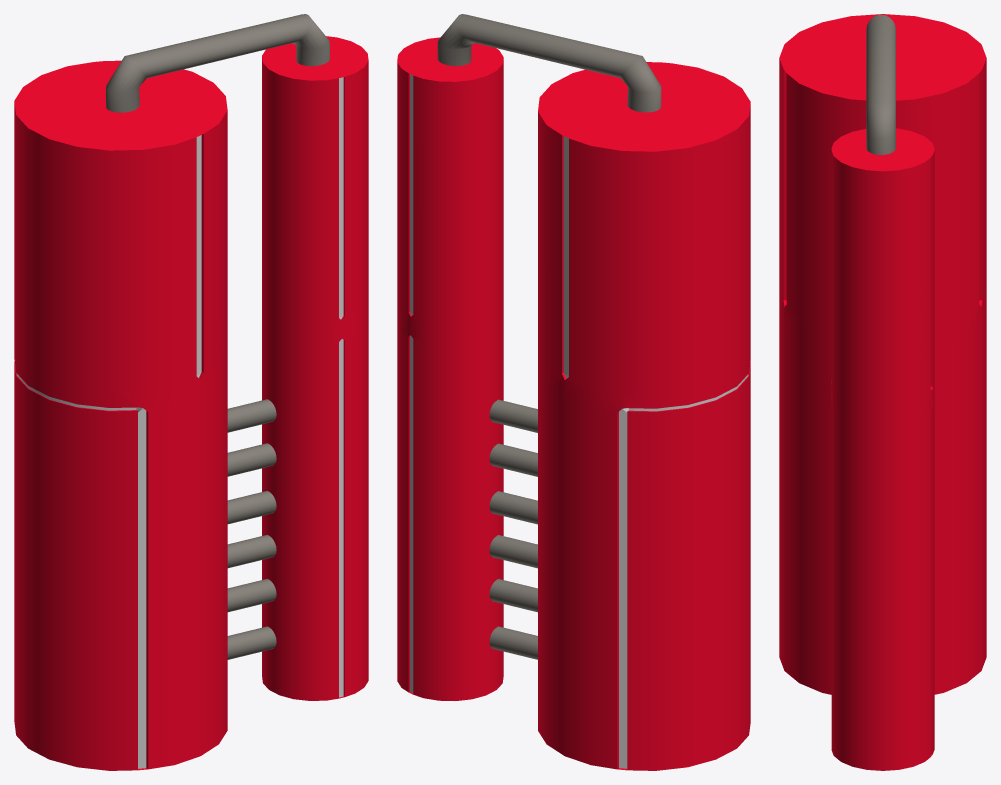
File: Red Transistor.fbx
The picture shows the model from 3 angles, left to right: view 1: azimuth 30°, elevation 25°; view 2: azimuth 150°, elevation 25°; view 3: azimuth 270°, elevation 25°; orthographic projection. The views are drawn at different scales.
Visible parts, largest first — view 1: pCylinder27; view 2: pCylinder27; view 3: pCylinder27.
Boxes of the visible parts, <box> form: pCylinder27: <box>14,14,368,770</box>; pCylinder27: <box>397,14,750,770</box>; pCylinder27: <box>779,14,986,770</box>.
Bounding box in the file's own units: 62.68 × 120 × 34.89.
